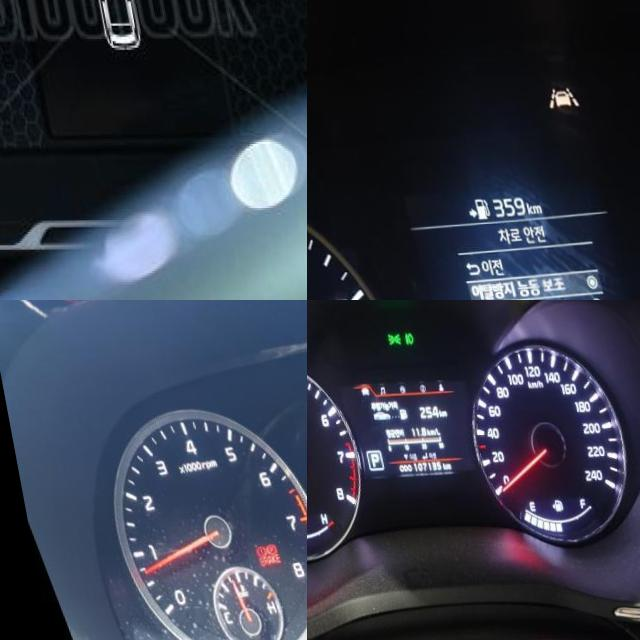FrontFogLight: (396, 332, 406, 346)
LaneCenteringOff: (539, 86, 572, 109)
SideLamp: (378, 332, 393, 346)
